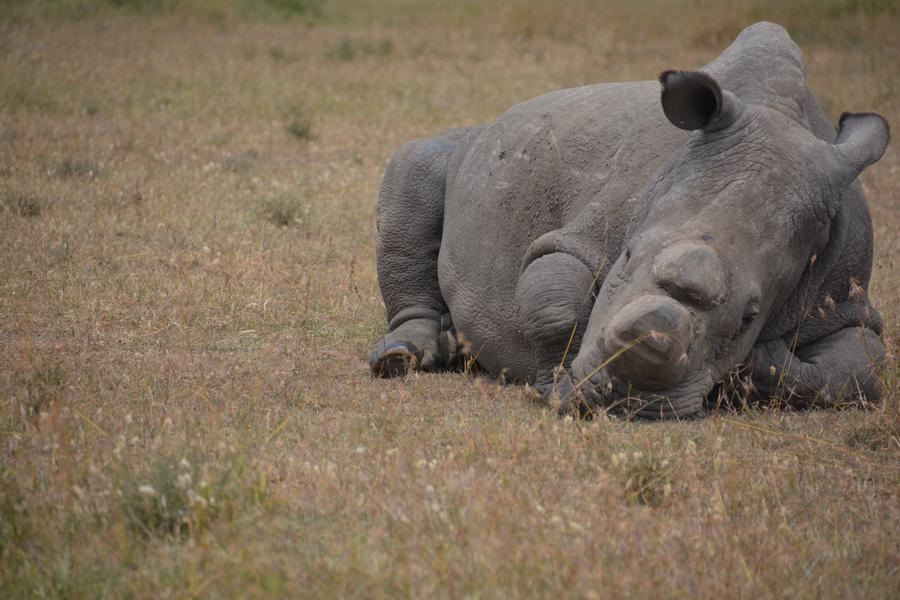rhino: (377, 22, 866, 369)
